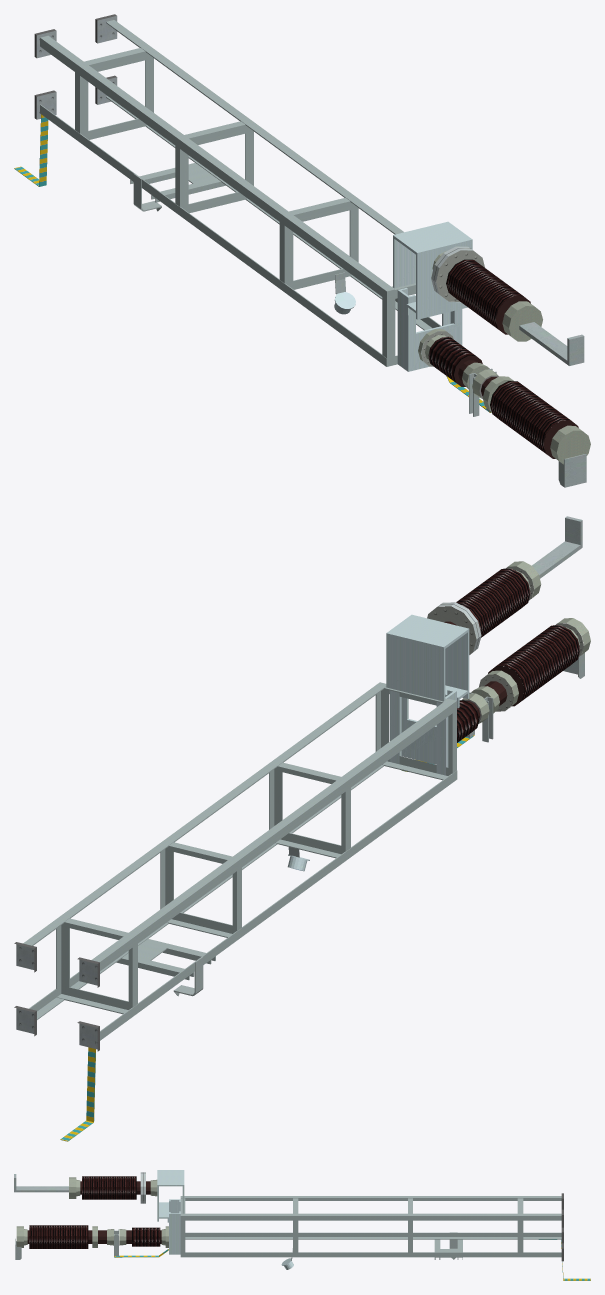
The model's file is blq-11m30000399966603-geode.glb.
3 renders of one model, top to bottom at view 1: azimuth 30°, elevation 25°; view 2: azimuth 150°, elevation 25°; view 3: azimuth 270°, elevation 25°, orthographic. The views are drawn at different scales.
Parts seen in each view (by area): view 1: Node; view 2: Node; view 3: Node.
Part boxes in pixels (x1=…): Node: x1=14, y1=14, x2=590, y2=487; Node: x1=14, y1=516, x2=590, y2=1141; Node: x1=14, y1=1170, x2=590, y2=1280.
Size of the model in its own units: 0.4508 by 1.12 by 5.1.
Materials: 13 (13 with a texture image).
